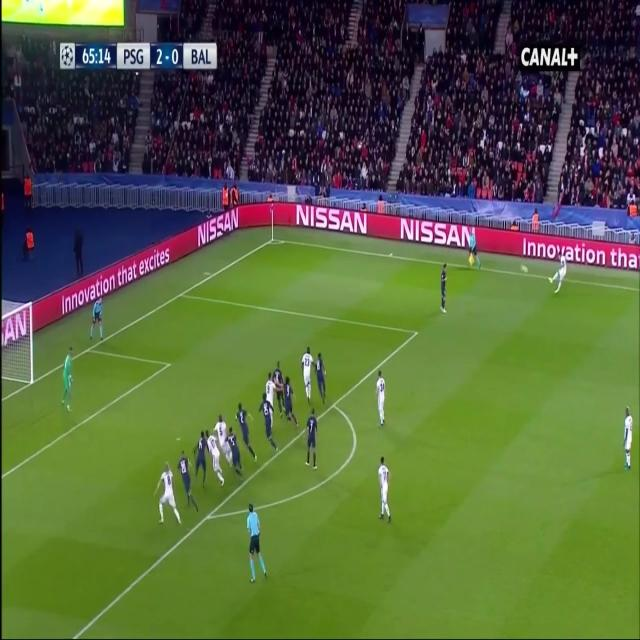Ball: (519, 262, 531, 275)
Goalkeeper: (59, 345, 76, 415)
Player: (152, 463, 181, 527), (175, 447, 201, 516), (234, 400, 260, 464), (256, 391, 280, 456), (204, 427, 228, 491), (377, 453, 394, 528), (224, 425, 246, 482), (303, 407, 320, 475), (620, 404, 635, 474), (282, 372, 299, 433), (373, 367, 389, 431), (547, 250, 569, 295), (300, 340, 314, 405), (194, 427, 208, 489), (437, 260, 451, 318), (214, 414, 230, 464), (315, 352, 329, 409), (261, 368, 276, 402)
Referee: (245, 498, 271, 587), (86, 292, 107, 344), (464, 229, 482, 272)
